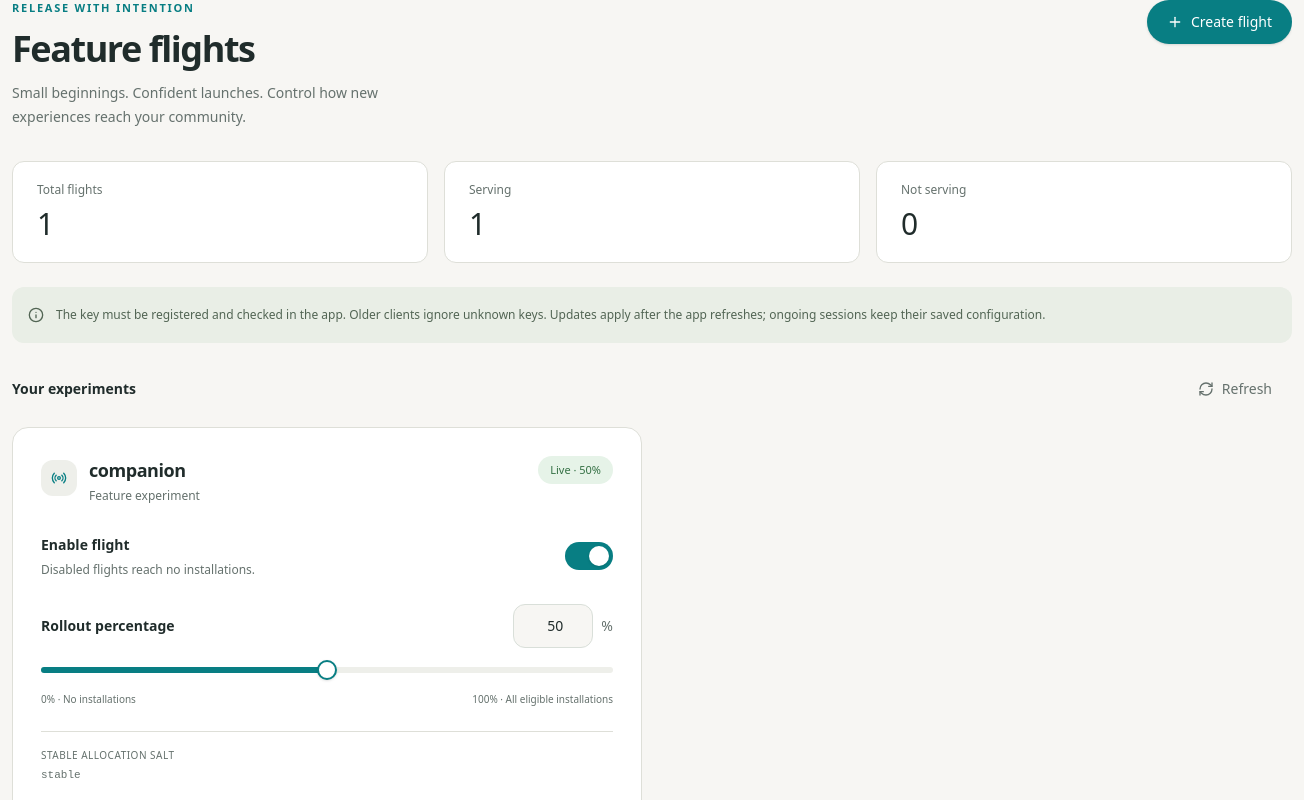
saves only explicitly and preserves drafts during refresh
The image size is (1304, 800).
expect the heading "companion" is shown: met, box [89,456,200,484]
Replace the text in the number field with "25" at (553, 626), box [513,604,593,648]
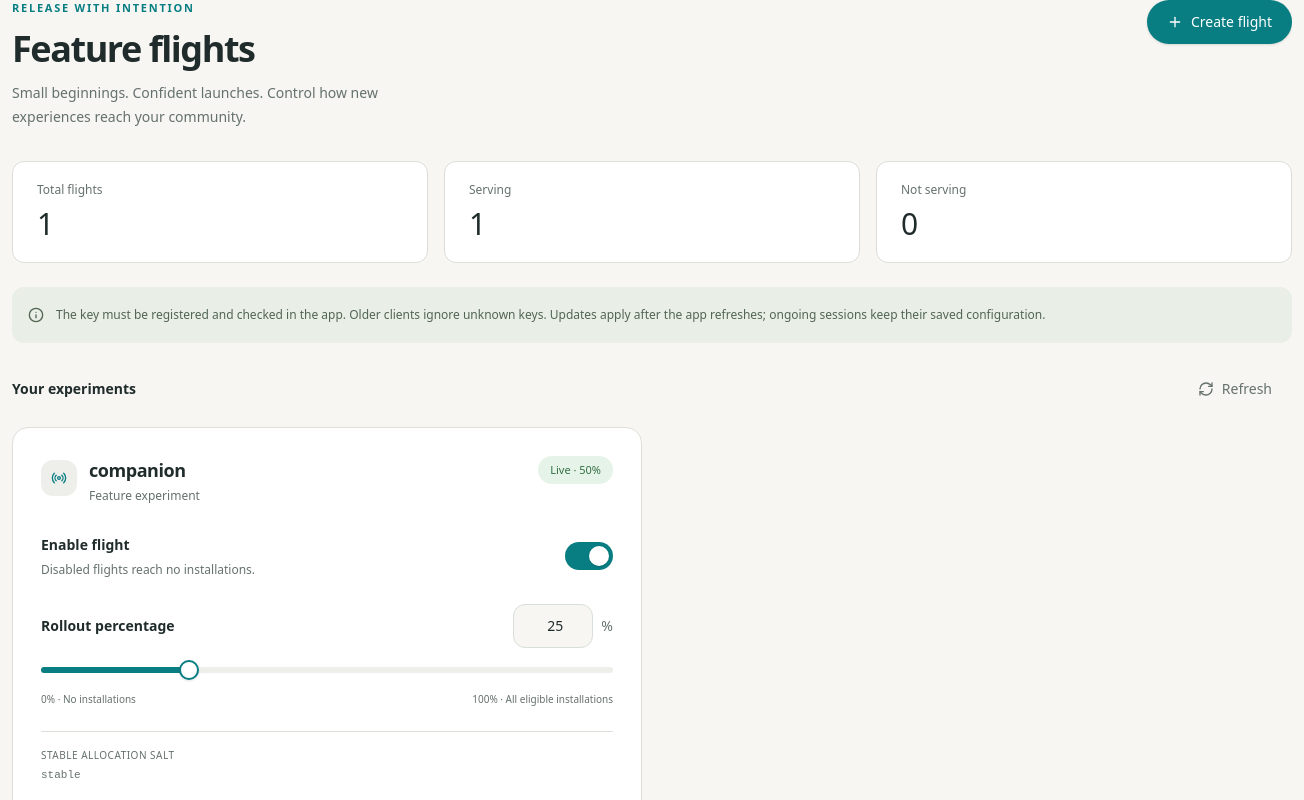
Click the button "Refresh" at (1235, 388), box [1178,366,1292,410]
(page scrolled)
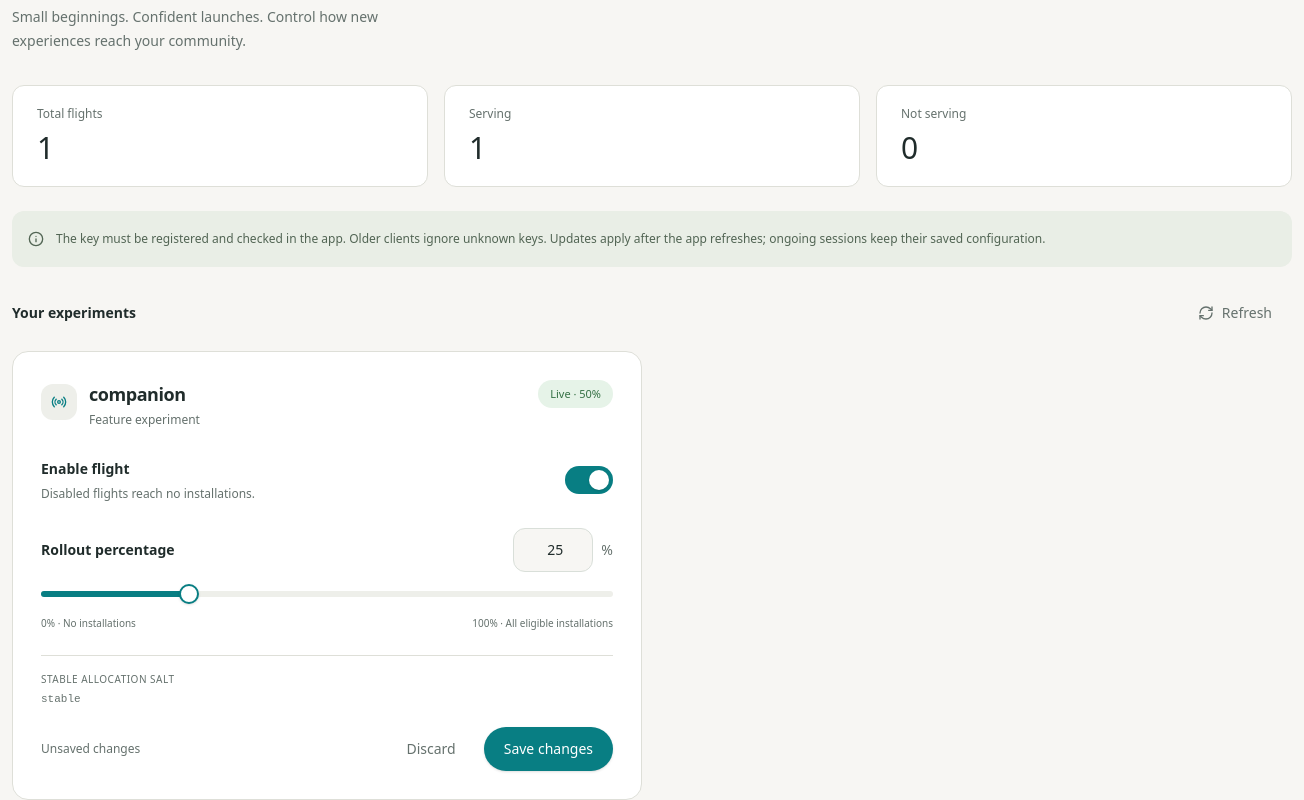
expect the button "Refresh" is enabled: met, box [1178,290,1292,334]
Click the button "Save changes" at (548, 749), box [484,727,613,771]
(page scrolled)
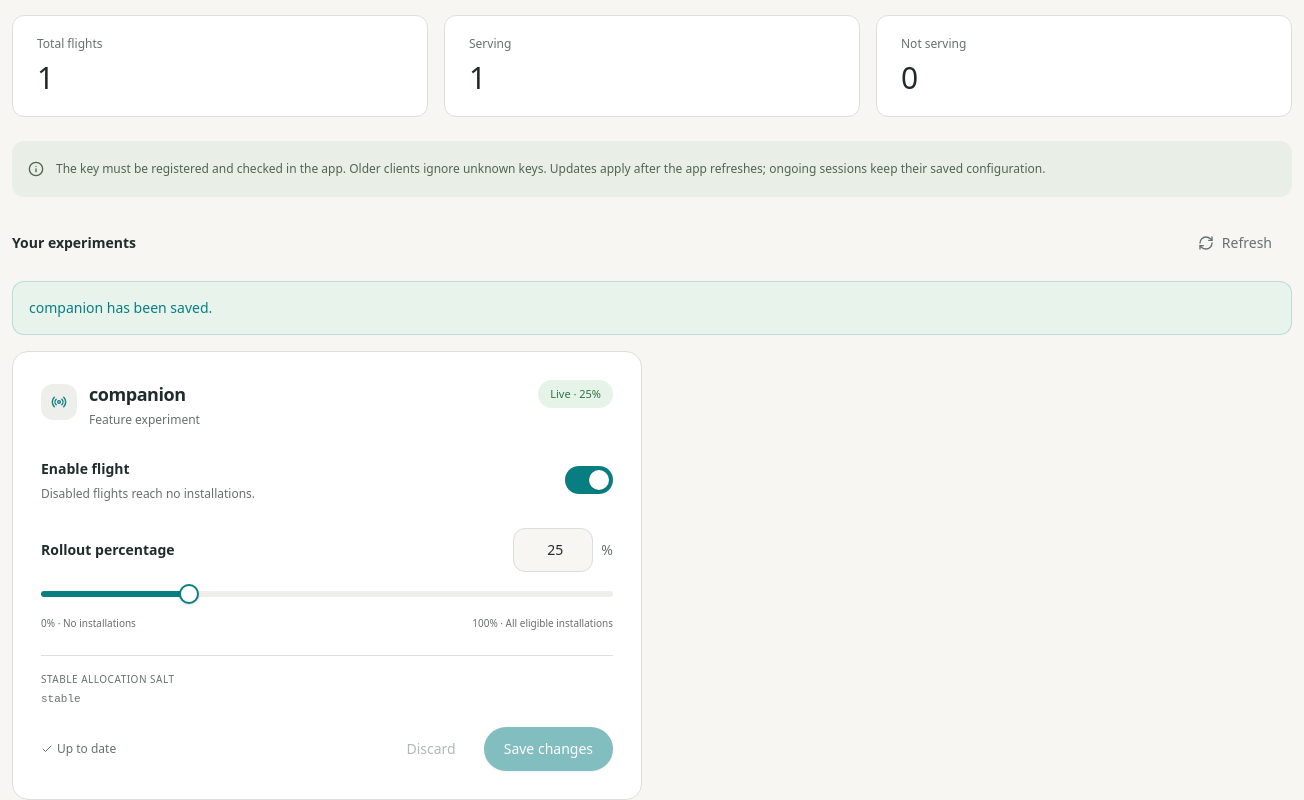
expect the message shows "companion has been saved": met, box [29,298,212,316]
expect the button "Save changes" is disabled: met, box [484,727,613,771]
